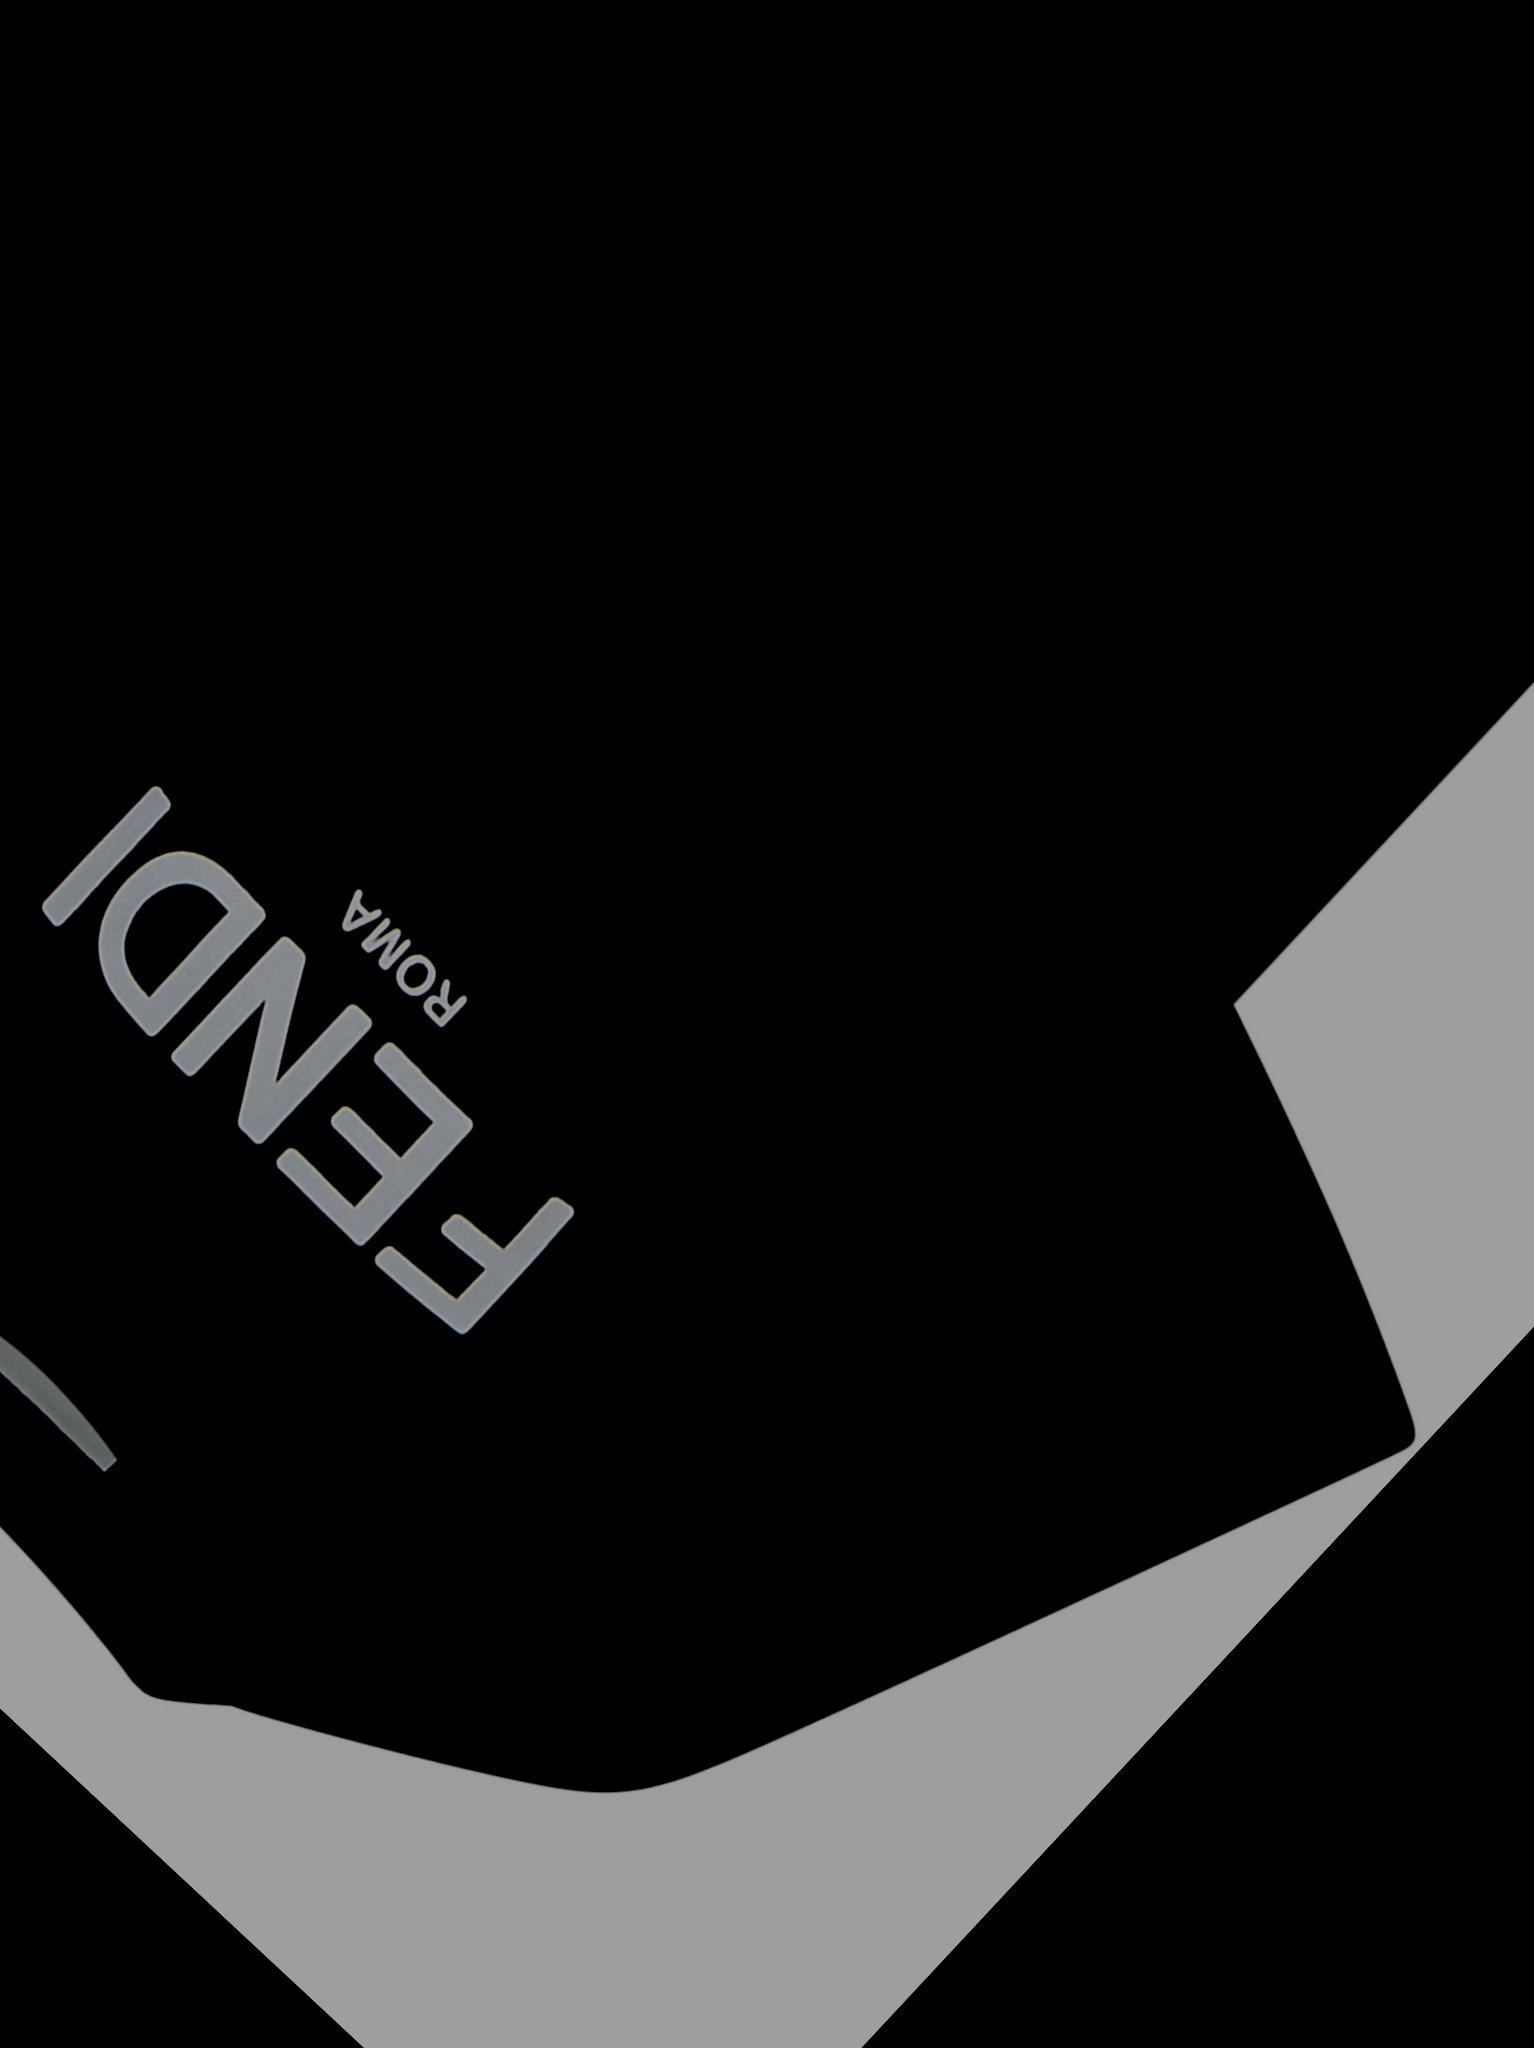FENDI: (15, 773, 603, 1344)
